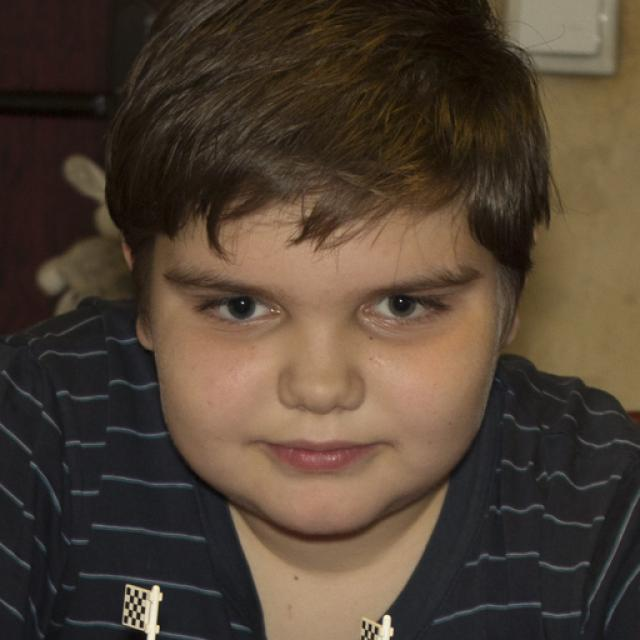content: (151, 177, 500, 535)
